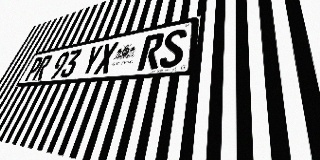3: (59, 49, 83, 78)
9: (48, 51, 71, 79)
P: (23, 56, 44, 81)
R: (137, 32, 165, 71), (32, 54, 54, 81)
S: (158, 28, 187, 69)
X: (93, 41, 119, 75)
Y: (79, 44, 104, 76)
